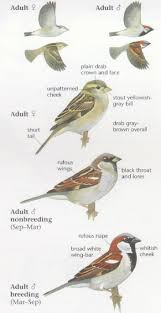hsparrow: (44, 230, 148, 308), (14, 149, 123, 218), (36, 78, 116, 165), (100, 35, 157, 76), (13, 38, 77, 73)
